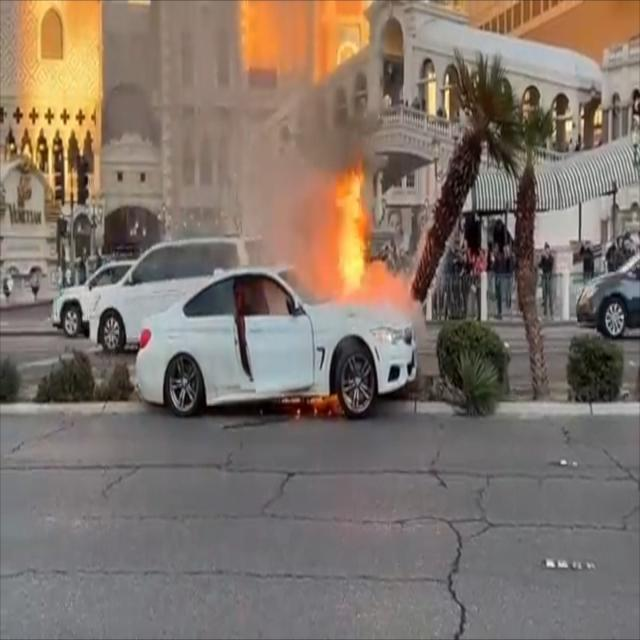fire: (318, 164, 384, 304)
